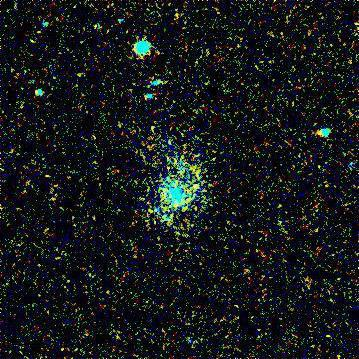star: (180, 178, 210, 208)
